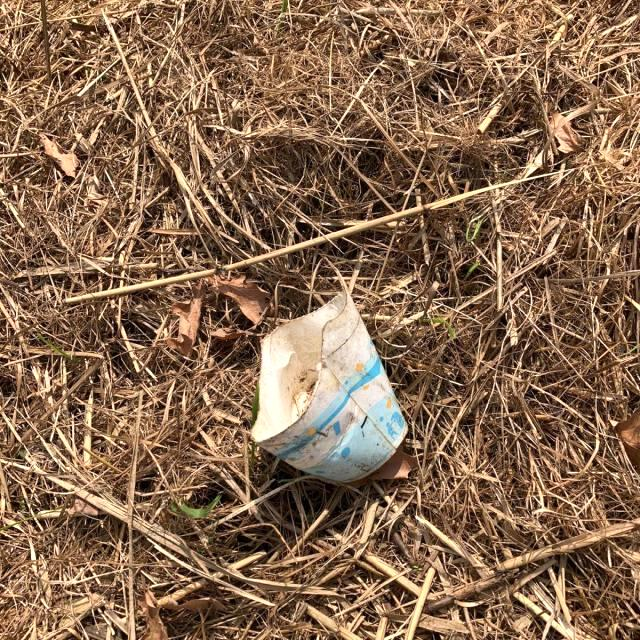Paper: (247, 254, 409, 486)
